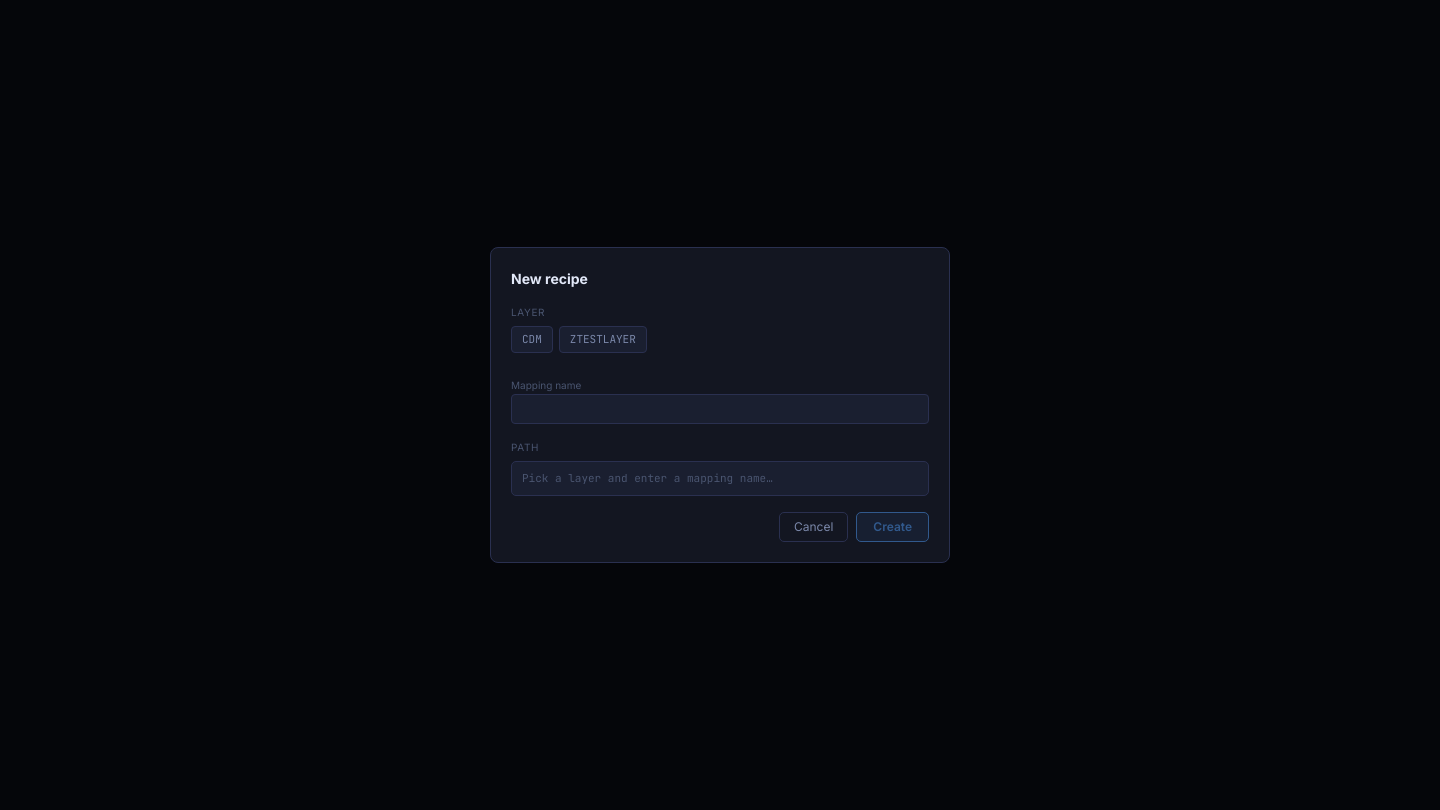
NewRecipeDialog › shows the exact path that will be created as the layer/mapping name are entered
The image size is (1440, 810).
Expected: the text "Pick a layer and enter a mapping name…" is shown, [511,461,929,496]
Click the button "CDM".
click(532, 340)  # box [511,326,553,353]
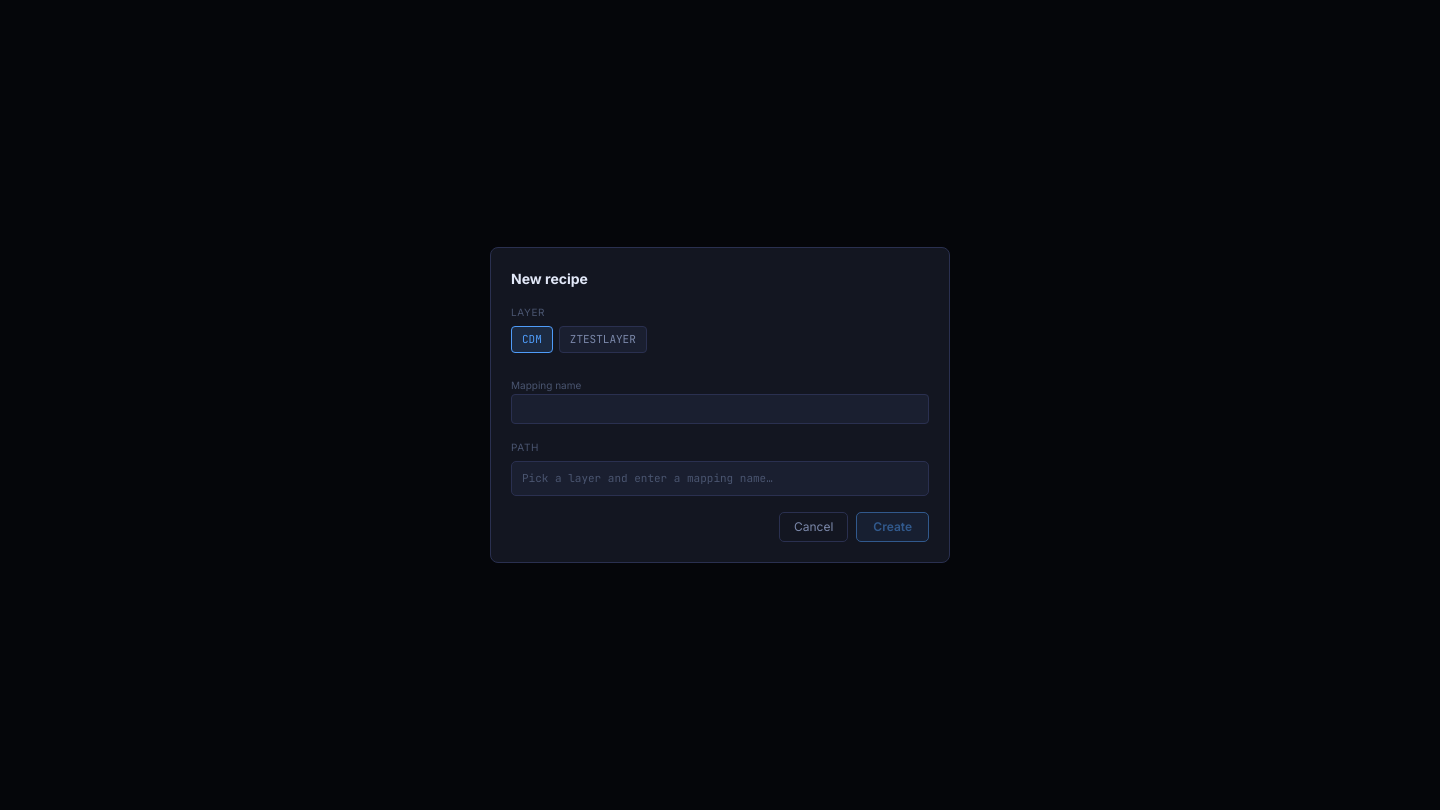
Type "m_NEW_ONE" into the field labelled "Mapping name".
click(720, 409); type("m_NEW_ONE")  # box [511,394,929,424]
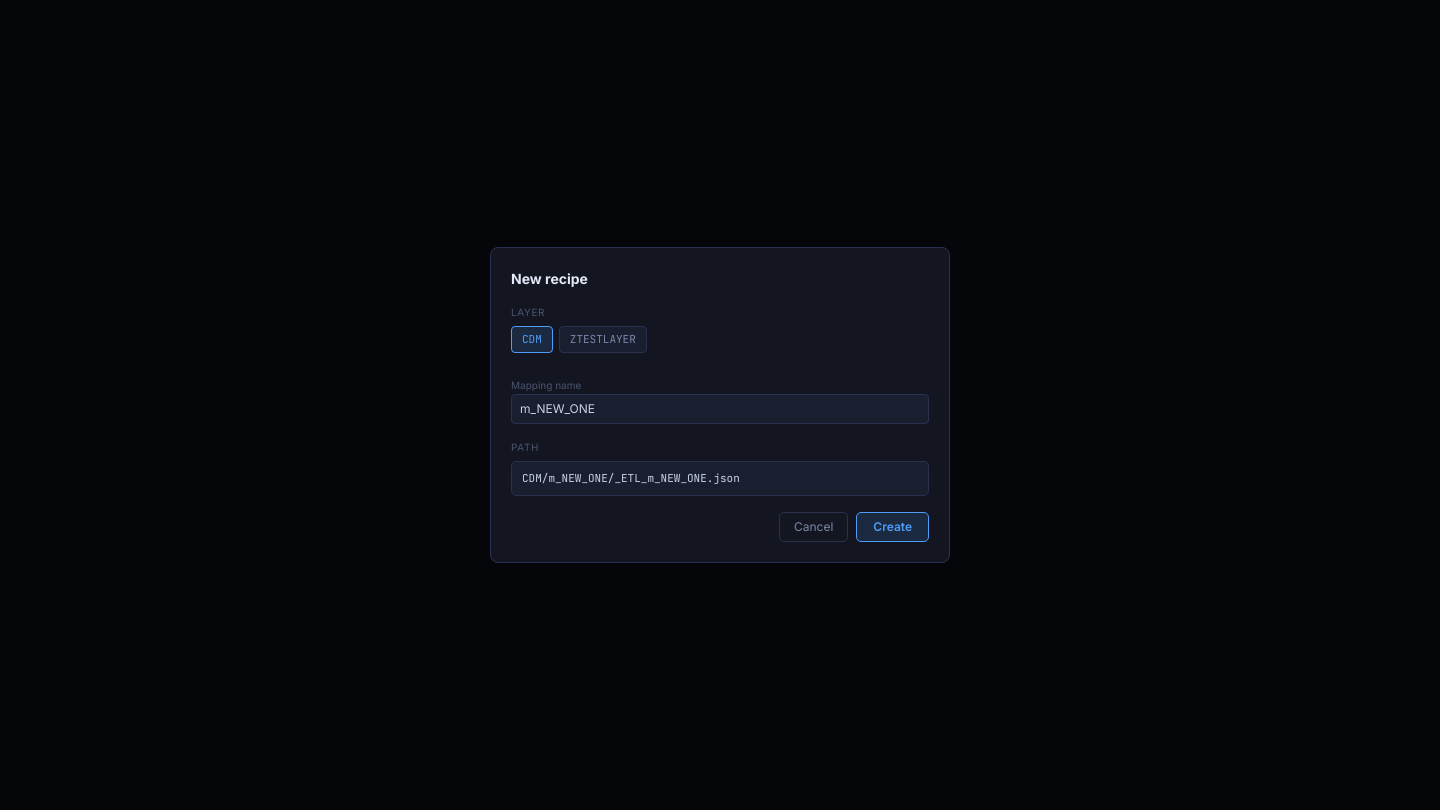
Expected: the text "CDM/m_NEW_ONE/_ETL_m_NEW_ONE.json" is shown, [511,461,929,496]
